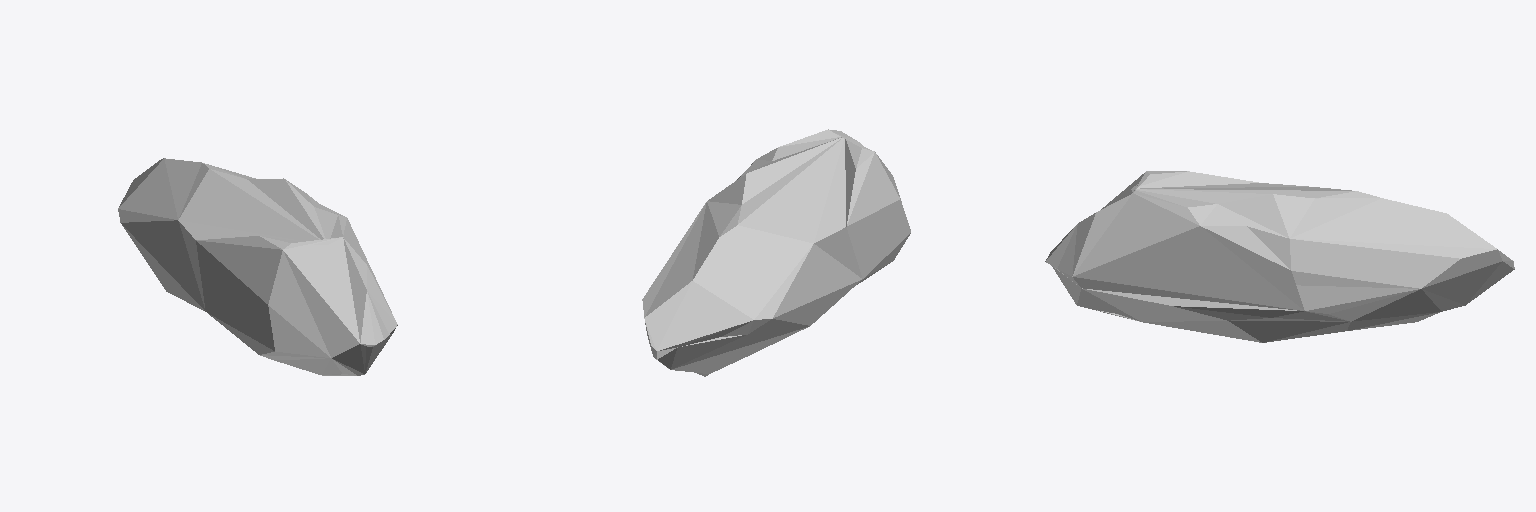
File: Rock3.obj
3 renders of one model, left to right at view 1: azimuth 30°, elevation 25°; view 2: azimuth 150°, elevation 25°; view 3: azimuth 270°, elevation 25°, orthographic.
Parts seen in each view (by area): view 1: LowPolyRock; view 2: LowPolyRock; view 3: LowPolyRock.
Boxes of the visible parts, x1,y1,x2,y2 form: LowPolyRock: [118, 158, 397, 375]; LowPolyRock: [642, 129, 910, 376]; LowPolyRock: [1045, 171, 1514, 342].
Size of the model in its own units: 1.42 by 1.38 by 3.97.